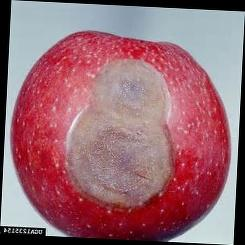rotten apple: (9, 30, 235, 238)
